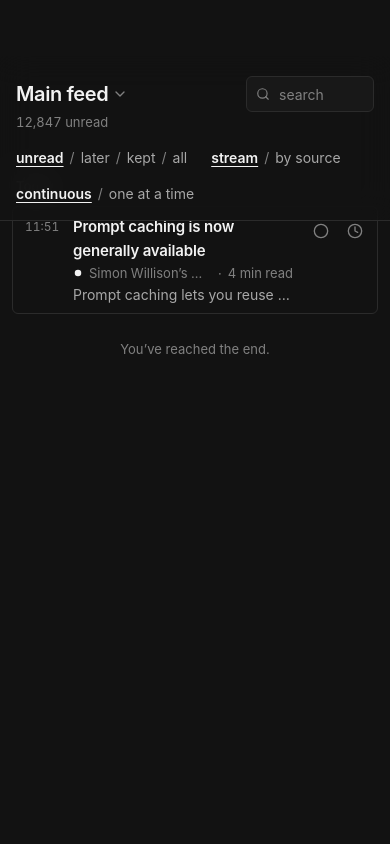
Scenario: ReaderNavRail › below md it is a drawer toggled from the toolbar
Click the button named "open navigation".
click(72, 94)  # box x1=12 y1=72 x2=132 y2=116
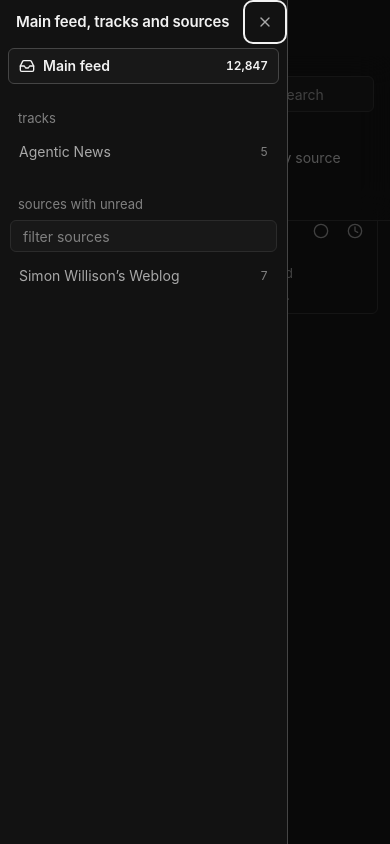
Check: the link "Main feed 12,847" is shown, box x1=8 y1=48 x2=279 y2=84
Click the link "Agentic News 5".
click(65, 152)  # box x1=8 y1=134 x2=279 y2=170
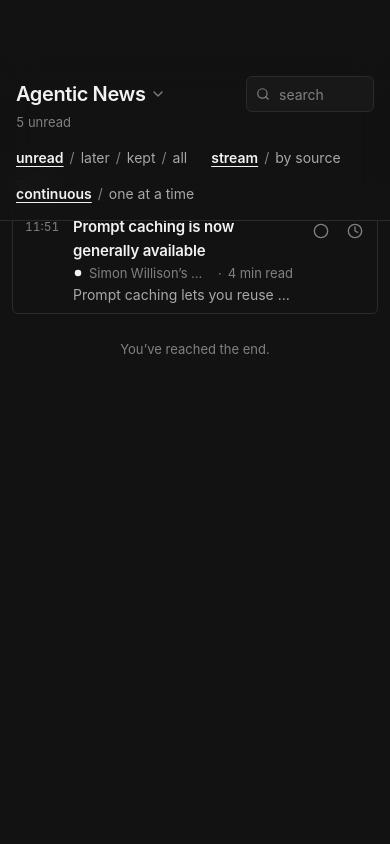
Check: the dialog is gone
